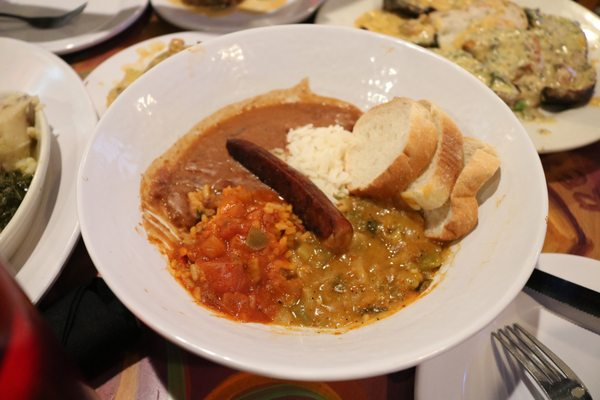sandwich: (523, 265, 599, 337)
sushi: (76, 26, 579, 382), (0, 35, 99, 304), (0, 90, 62, 272)
